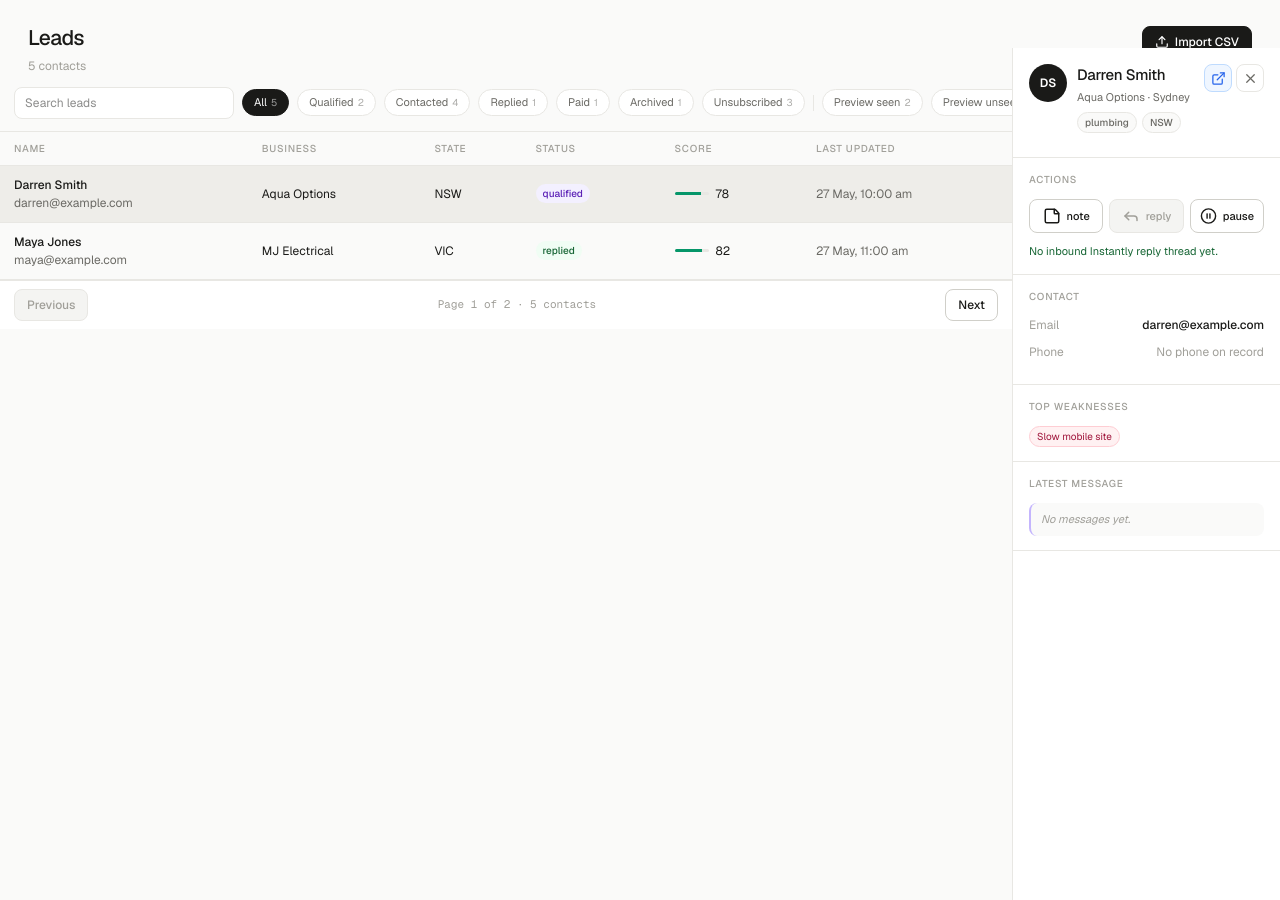
Test: LeadsWorkbench › shows a pending state immediately when a filter pill is clicked, then swaps in fetched rows
Click the button "Replied1" at (513, 103), box left=478, top=89, right=548, bottom=116
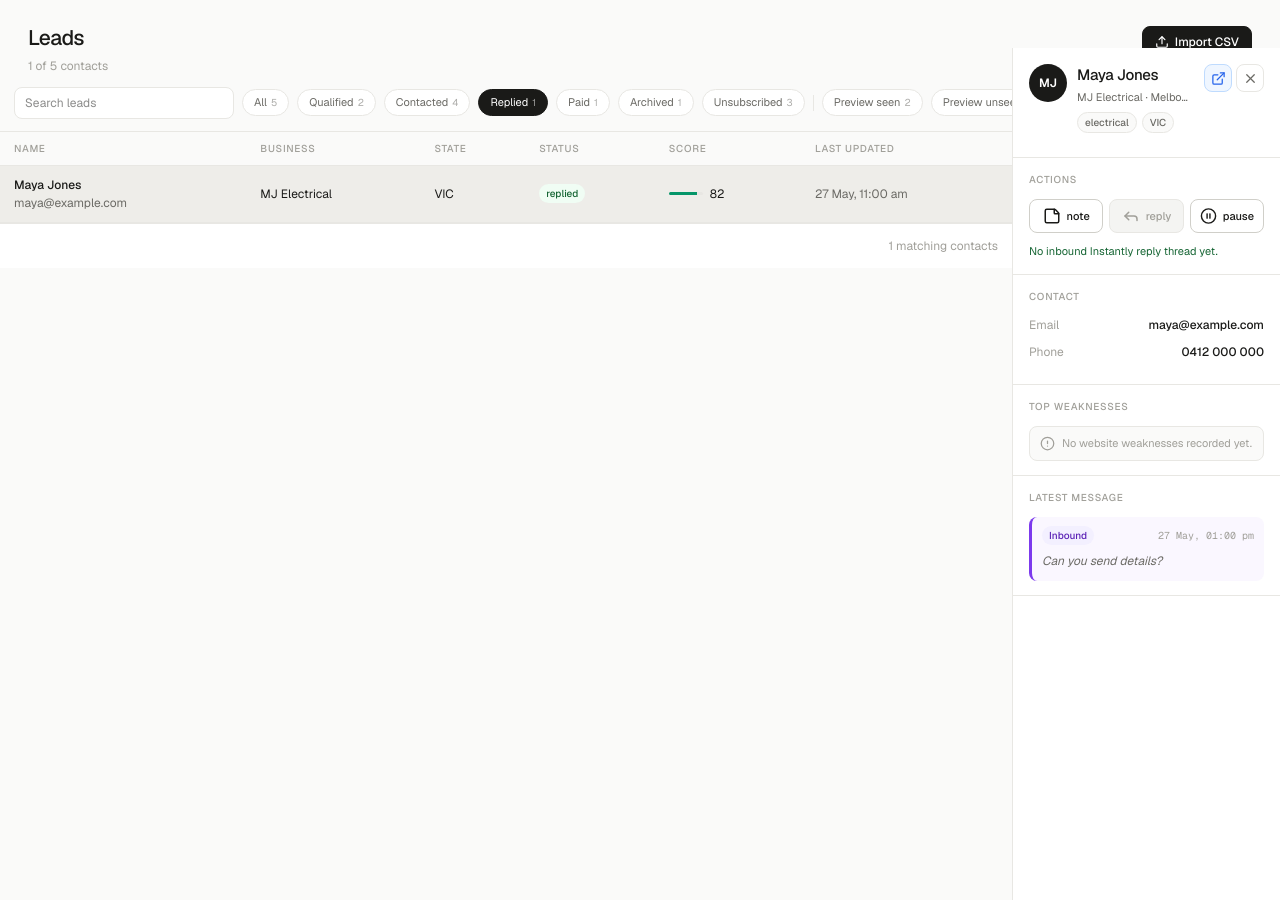
Expected: the element with class "is-pending" is shown, left=0, top=132, right=1012, bottom=268
Result: the text "Aqua Options · Sydney" is gone
Result: the text "MJ Electrical · Melbourne" is shown at left=1077, top=88, right=1192, bottom=105
